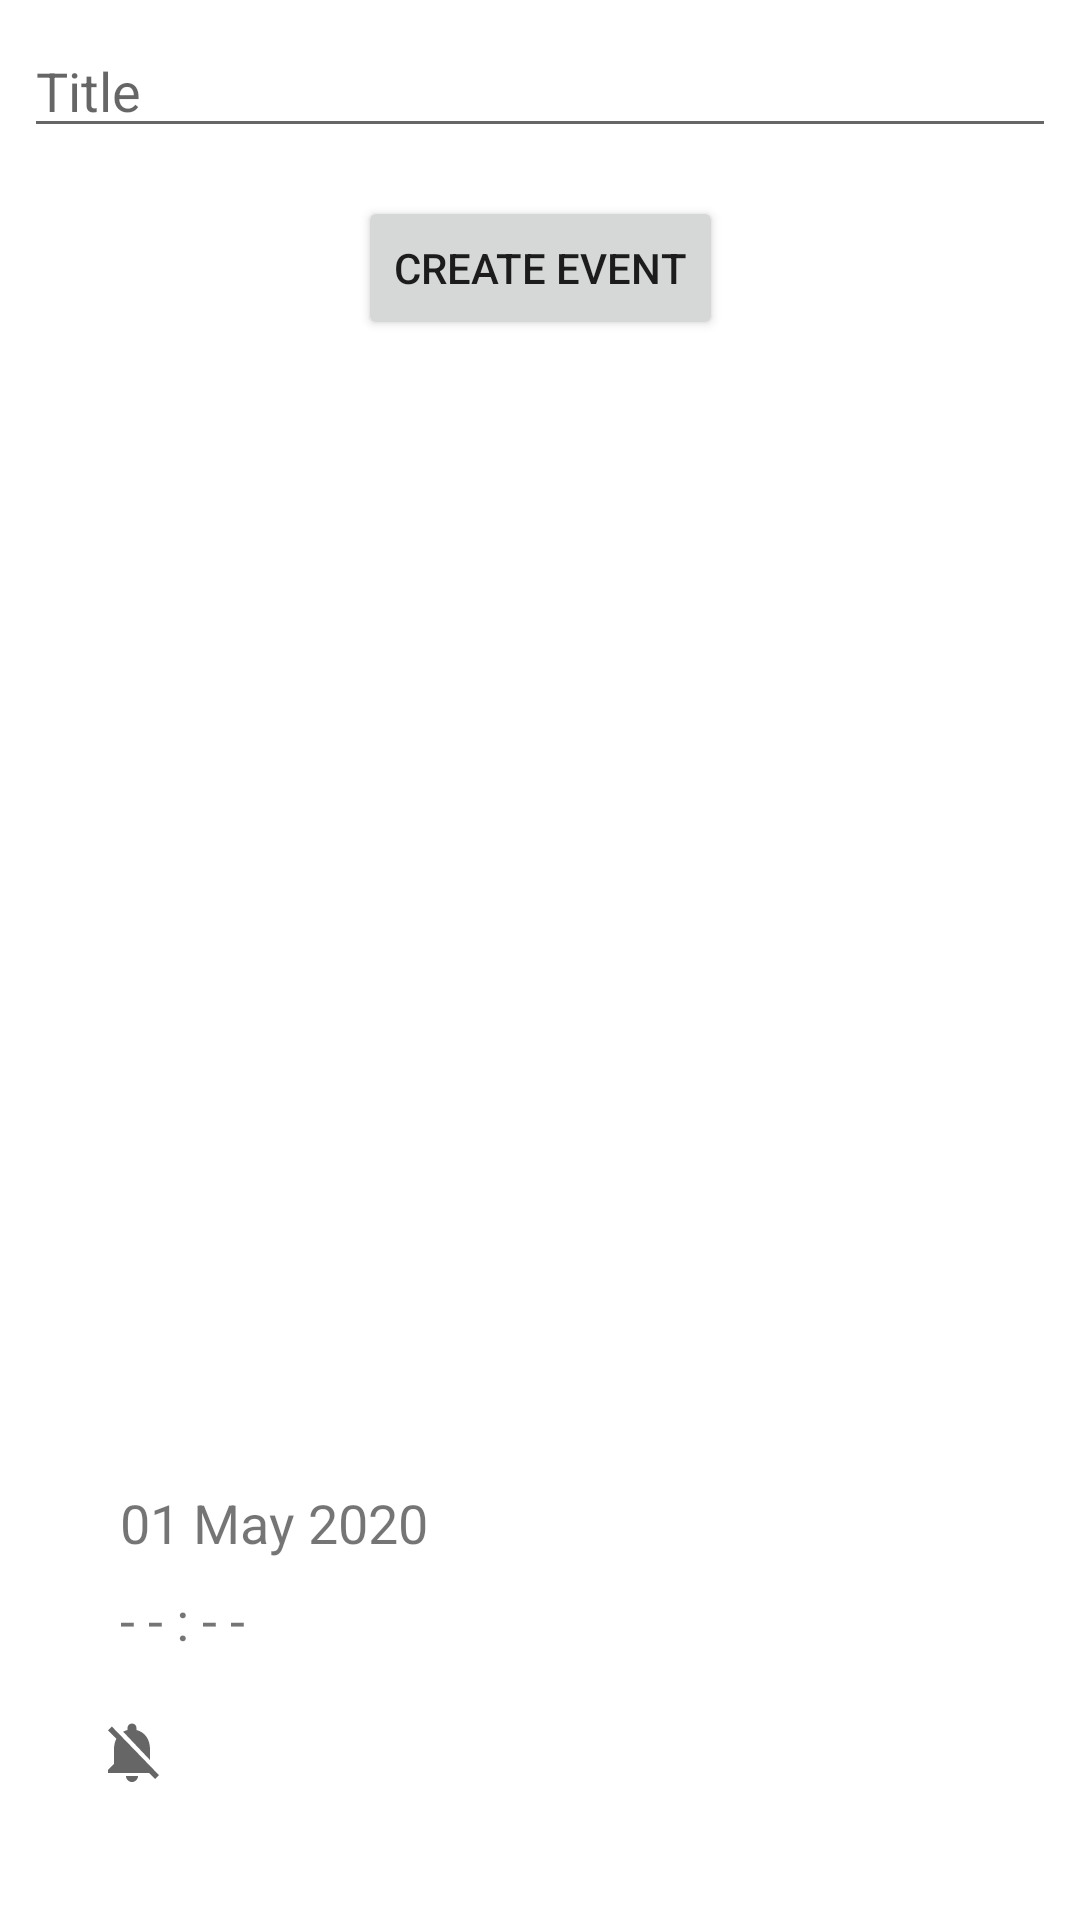

Named icons in this screenshot (1080px×1920px) and their centers, [x,y]:
notifications off: [133,1752]
